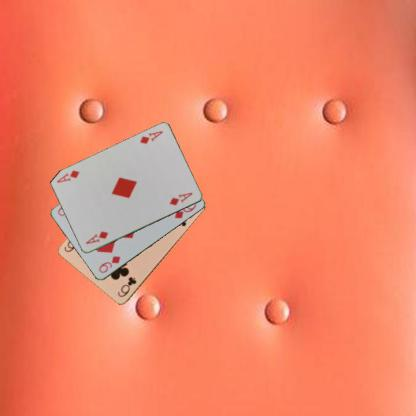6c: (115, 274, 137, 299)
9d: (96, 254, 122, 274)
Ad: (137, 128, 164, 146), (83, 228, 109, 245)
